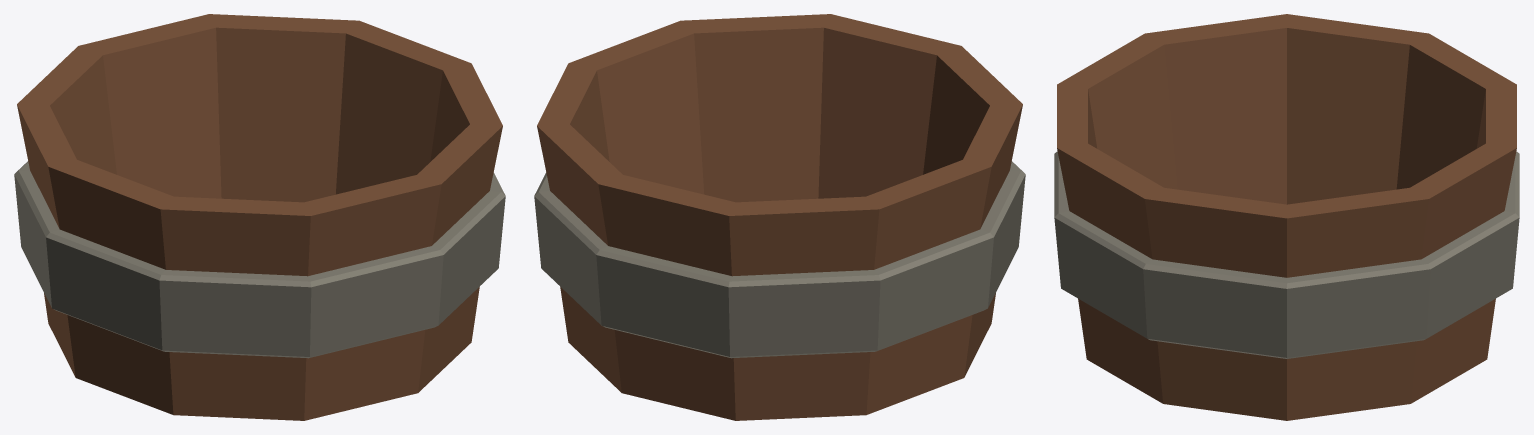
Rendered from LowBrownBucket.fbx.
3 views of the same model, side by side, from view 1: azimuth 30°, elevation 25°; view 2: azimuth 150°, elevation 25°; view 3: azimuth 270°, elevation 25° (orthographic).
Visible parts, largest first — view 1: LowBrownBucket; view 2: LowBrownBucket; view 3: LowBrownBucket.
Boxes of the visible parts, bbox=[...] form: LowBrownBucket: bbox=[14, 14, 505, 420]; LowBrownBucket: bbox=[534, 14, 1025, 420]; LowBrownBucket: bbox=[1054, 14, 1519, 420].
Size of the model in its own units: 2.02 by 0.984 by 1.92.
